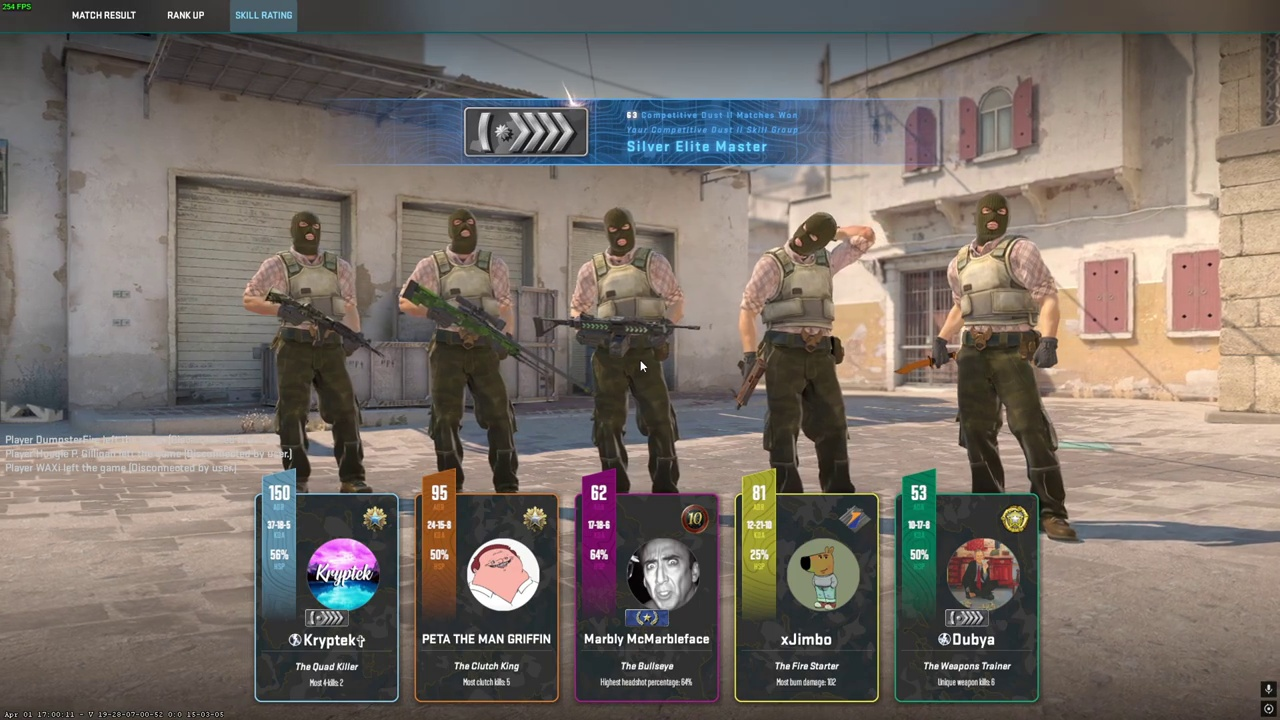Terrorist: (944, 193, 1064, 540), (576, 208, 685, 495), (259, 210, 368, 494), (745, 213, 854, 495), (415, 208, 519, 494)
